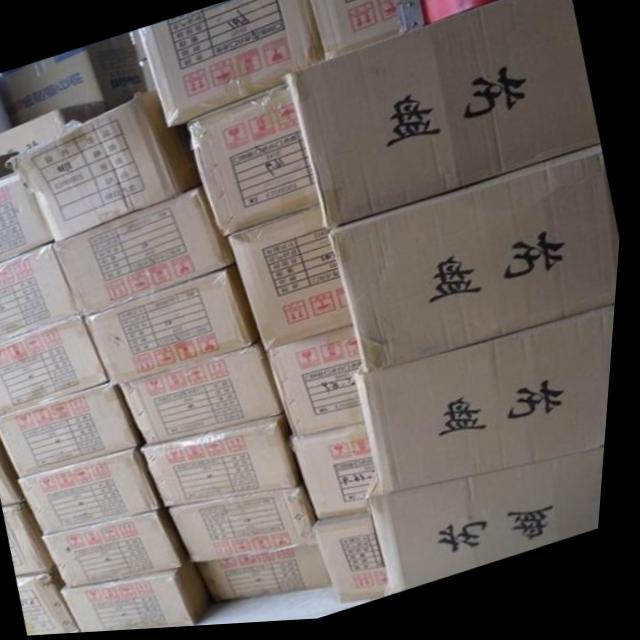box: (283, 0, 603, 233), (331, 152, 624, 380), (359, 313, 620, 500), (374, 453, 612, 601), (9, 90, 205, 244), (139, 0, 324, 130), (56, 185, 237, 317), (89, 265, 267, 390), (189, 86, 323, 238), (227, 208, 357, 355), (125, 339, 290, 448), (148, 418, 309, 511), (0, 383, 152, 476), (0, 34, 150, 128), (26, 451, 174, 534), (174, 488, 327, 568), (0, 318, 118, 420), (52, 510, 198, 590), (271, 333, 371, 441), (71, 568, 221, 634), (0, 245, 89, 345), (297, 425, 383, 525), (319, 515, 401, 610), (199, 550, 342, 604), (310, 0, 421, 67), (0, 95, 110, 155), (0, 170, 61, 264), (24, 568, 90, 637), (10, 505, 66, 576), (0, 423, 36, 507), (0, 151, 17, 179)
